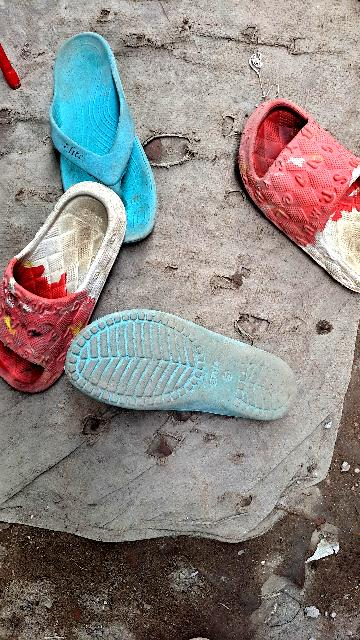sandal: (57, 294, 311, 469), (0, 150, 141, 405), (204, 64, 360, 293), (35, 10, 167, 254)
